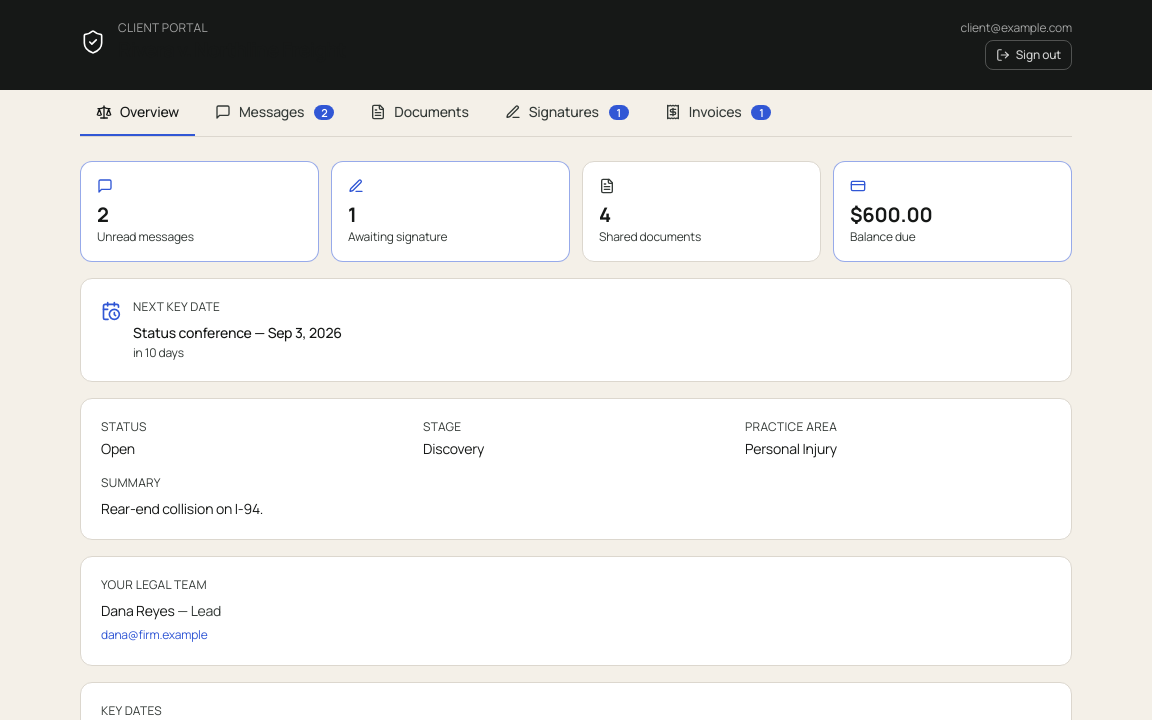
Test: ClientPortalMatterPage › marks firm messages read when the client opens the thread
Click the tab "Messages 2" at (275, 113), box [199,90,350,136]
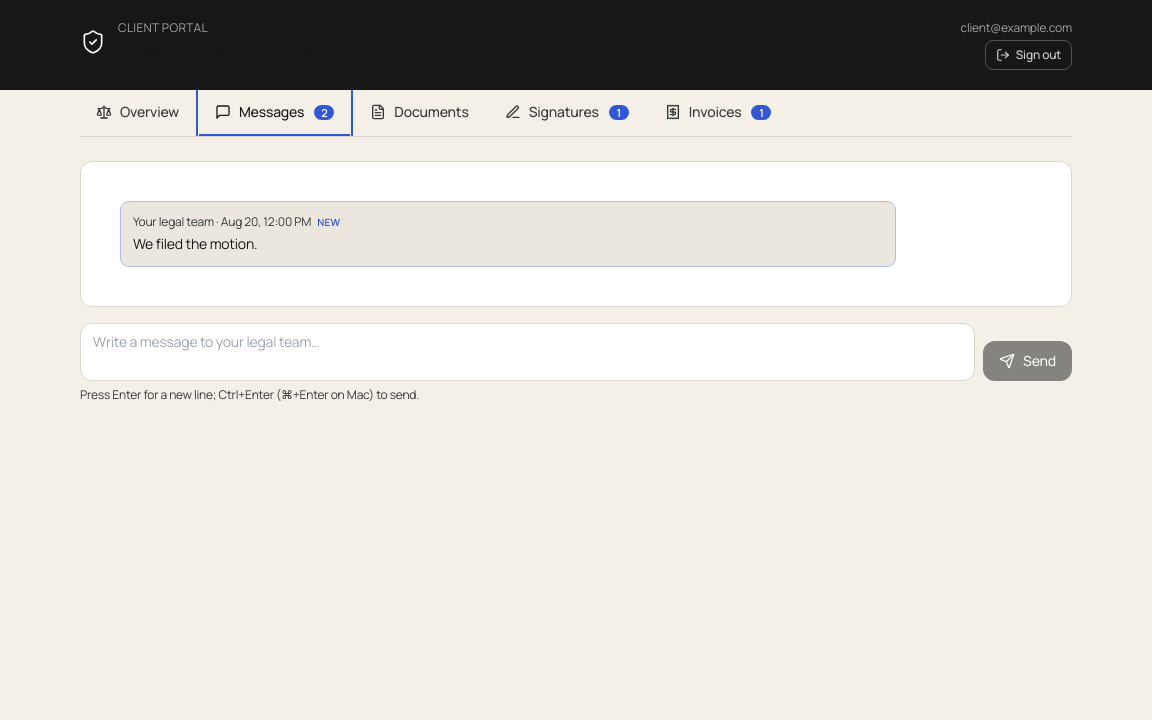
Check: the text "We filed the motion." is shown, box [133,234,257,253]
